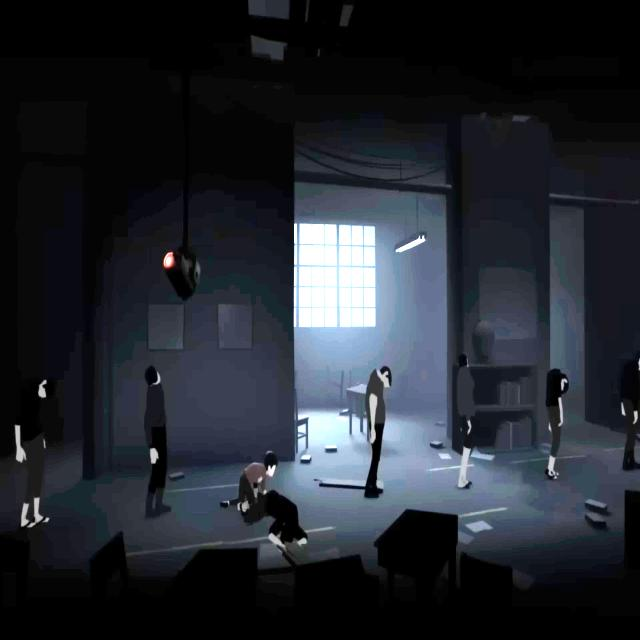boy: (220, 451, 278, 508)
zombie: (14, 371, 52, 530), (144, 364, 172, 520), (364, 365, 393, 499), (238, 491, 308, 546), (545, 368, 569, 482), (457, 353, 477, 489), (621, 354, 640, 472)
